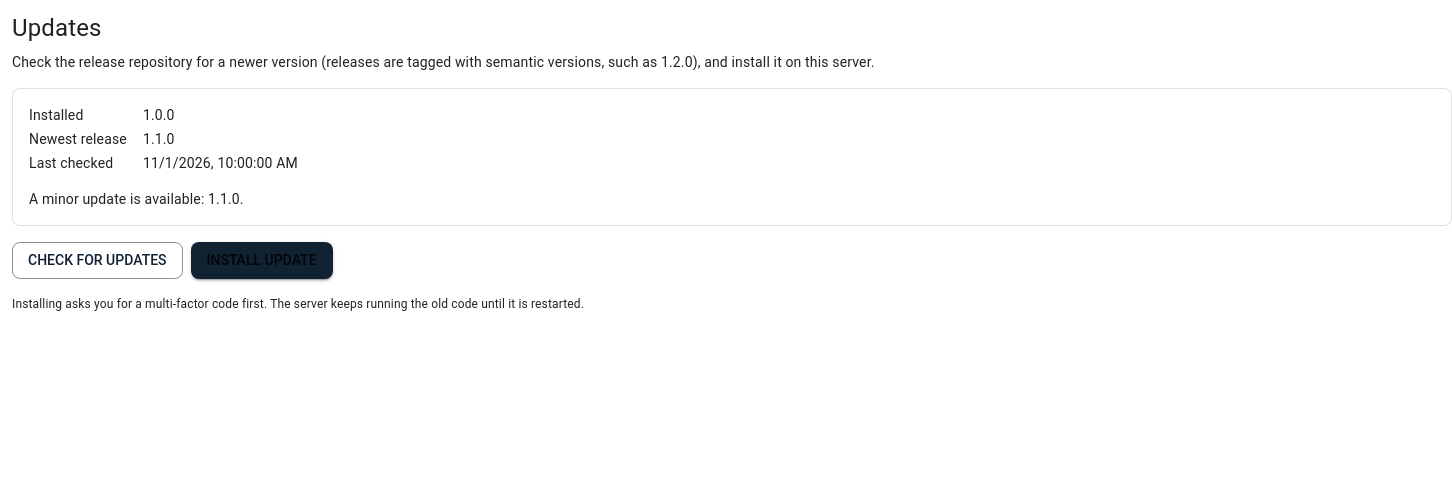
it: Admin > Updates › starts the install and shows its progress log
The image size is (1452, 499).
Click the button "Install update" at (262, 261), box [190,242,332,279]
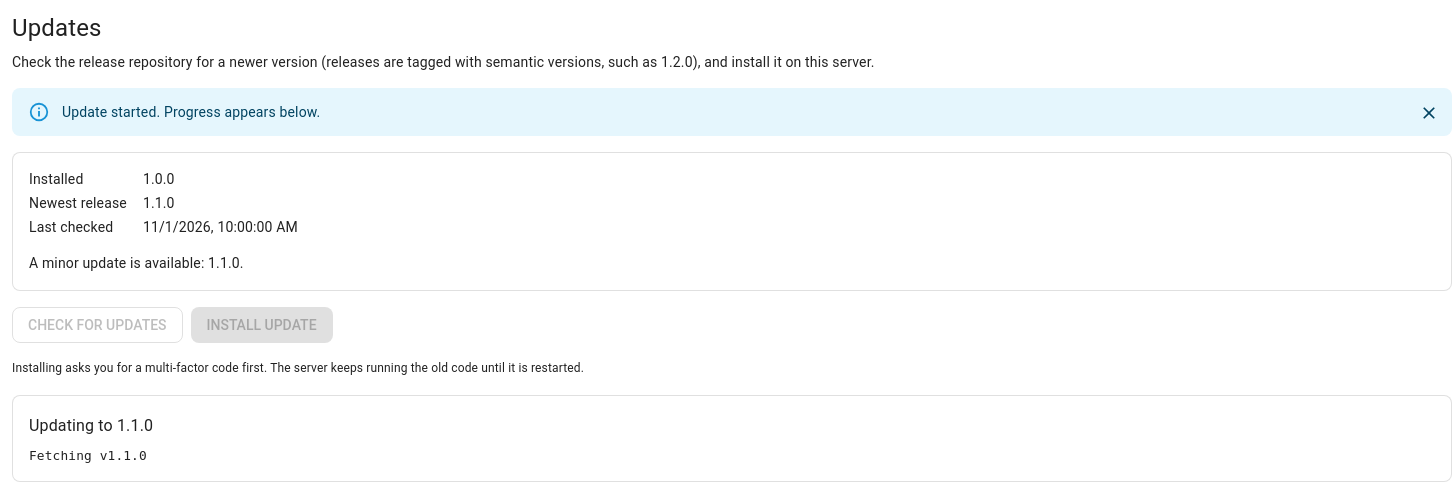
Expected: the text "Fetching v1.1.0" is shown, [29,448,147,462]
